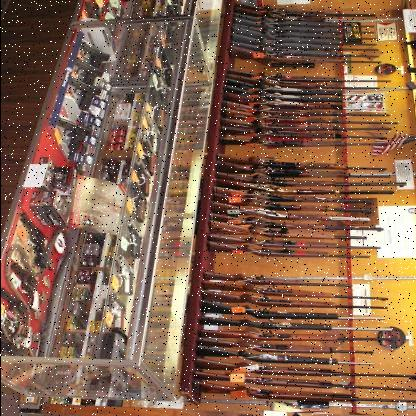rifle: (191, 301, 344, 324), (204, 157, 386, 174)
